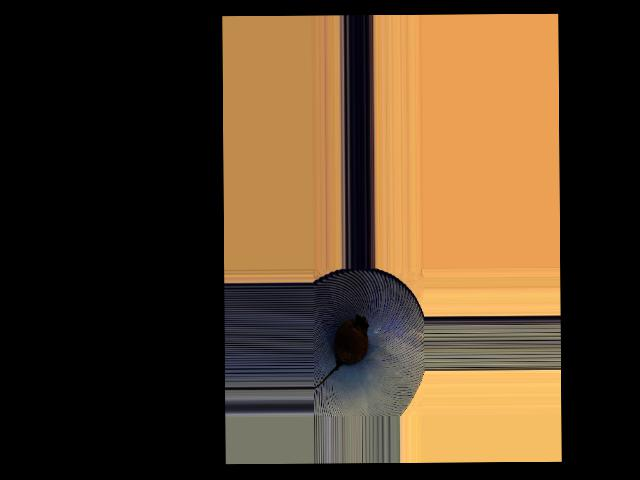beet: (312, 314, 368, 388)
